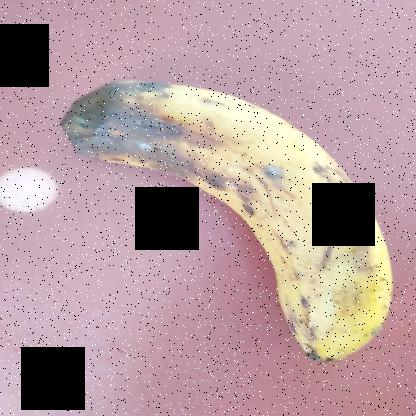rotten: (50, 66, 415, 380)
